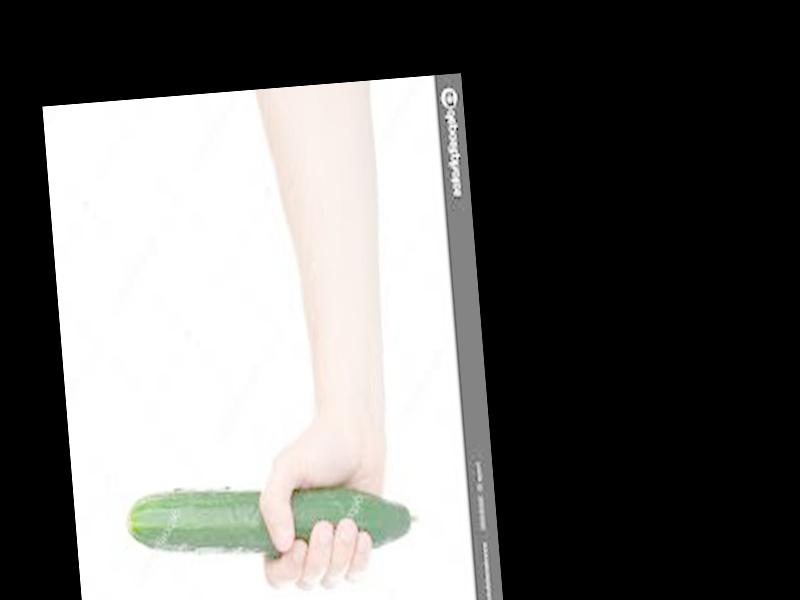Cucumber: (125, 472, 418, 568)
